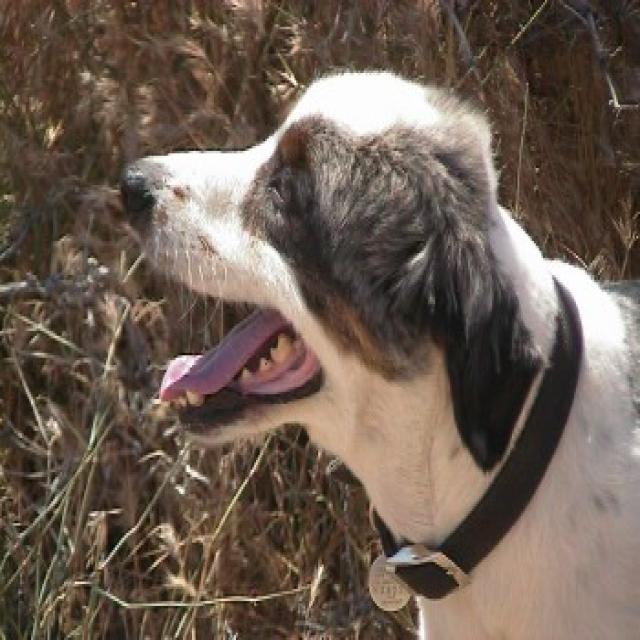dogs: (120, 71, 640, 640)
